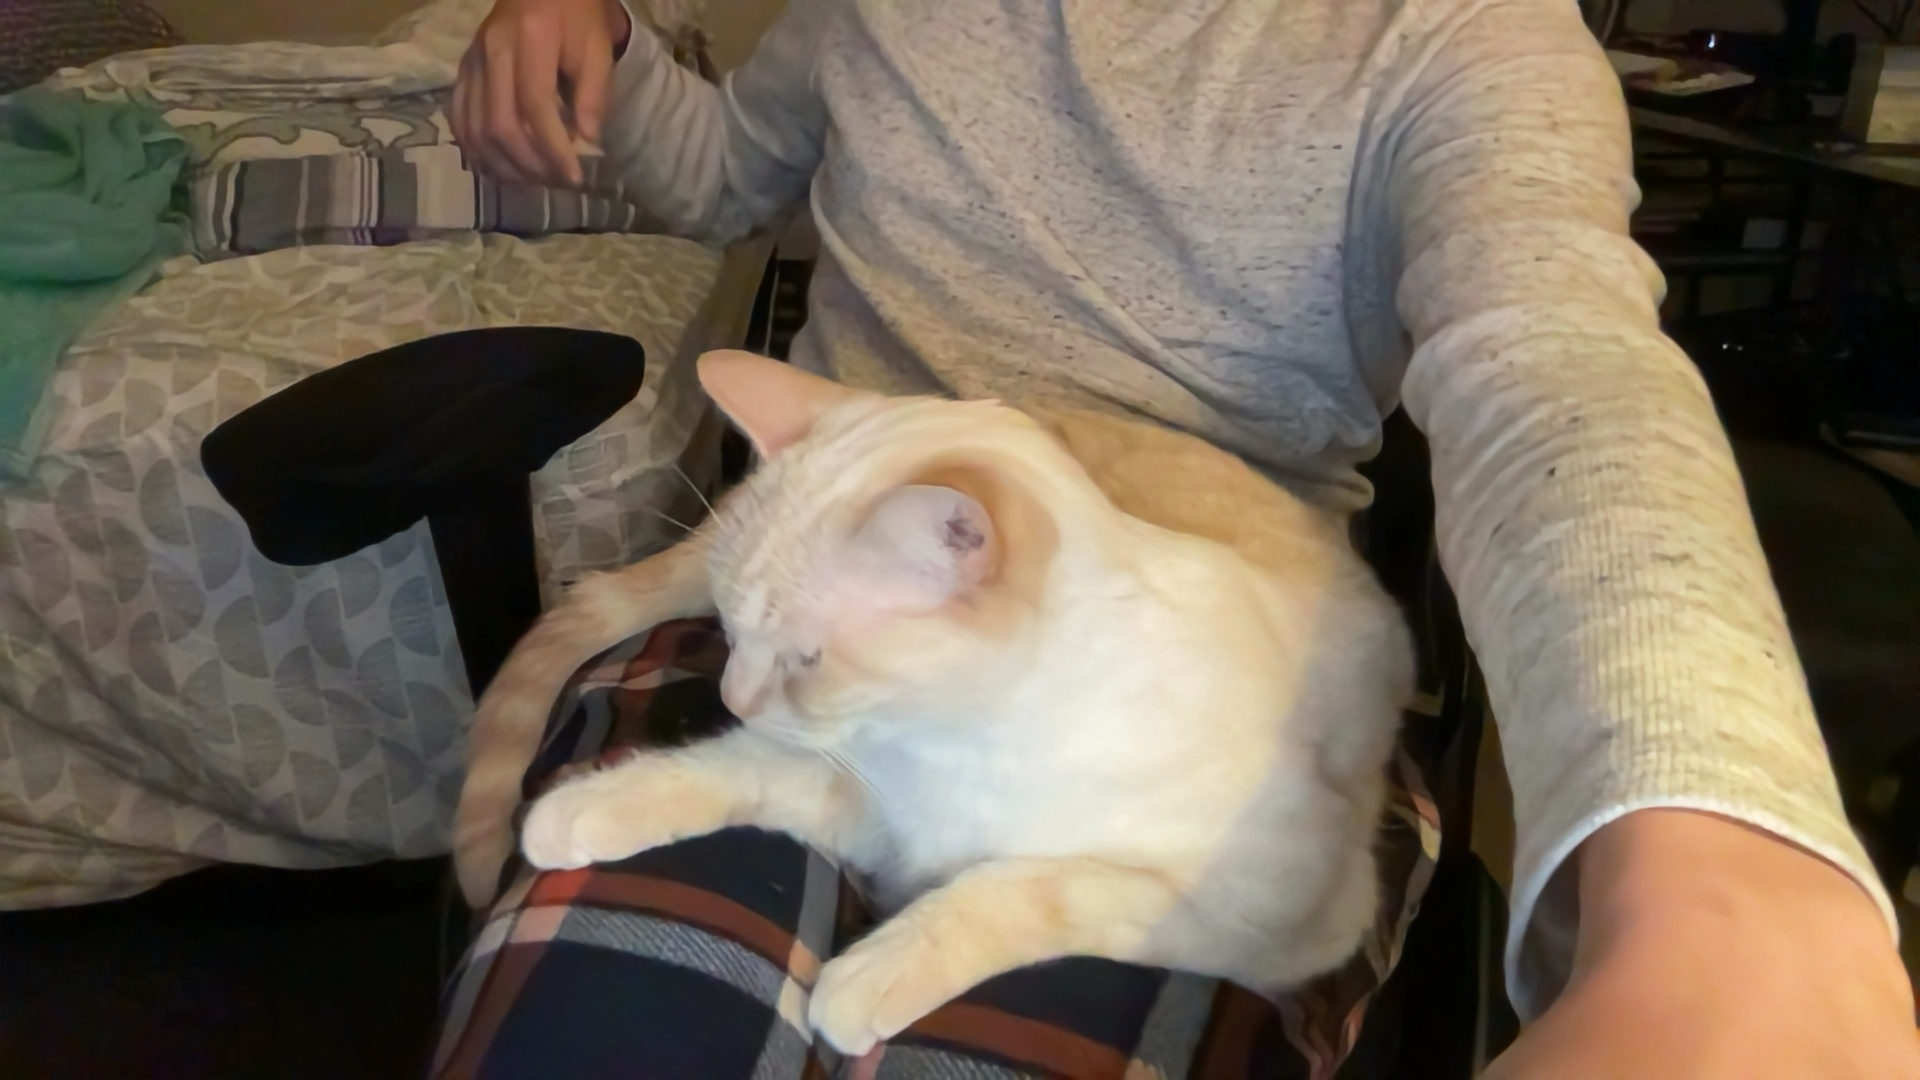cat: (452, 349, 1422, 1062)
